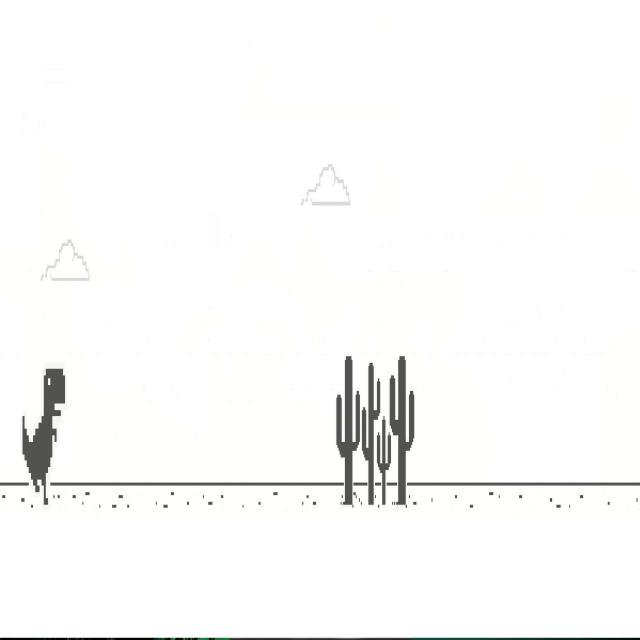cacto: (389, 354, 415, 508), (336, 355, 362, 507), (362, 362, 381, 507), (376, 416, 391, 506)
dino: (21, 364, 66, 506)
